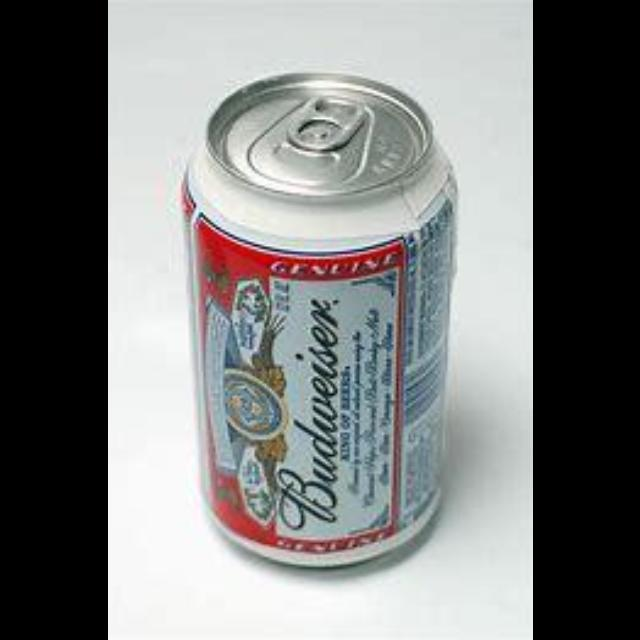aba de lata: (283, 92, 363, 152)
lata: (176, 71, 460, 571)
